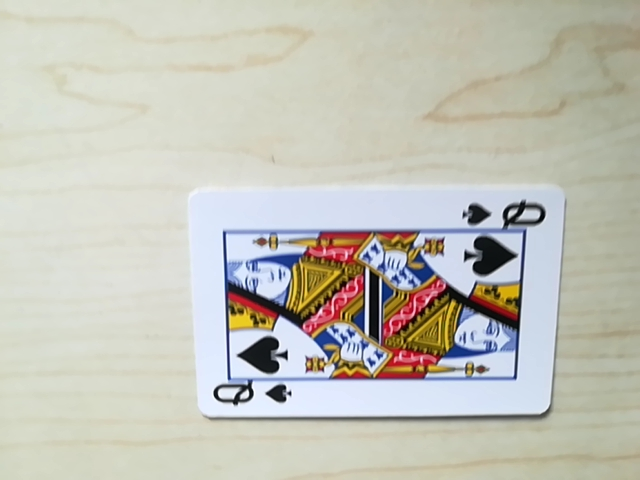ht q: (466, 193, 545, 231), (209, 377, 291, 413)
